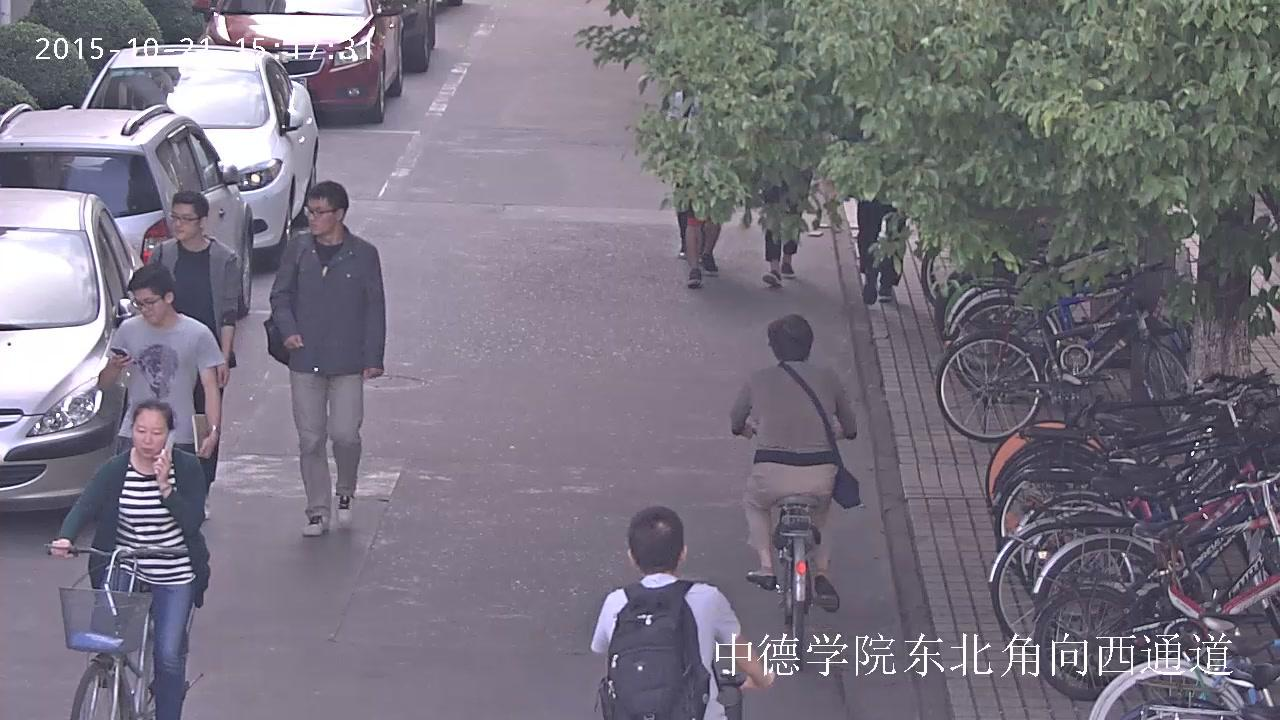face: (132, 407, 169, 458), (134, 288, 167, 324), (307, 195, 335, 235), (172, 203, 198, 241)
